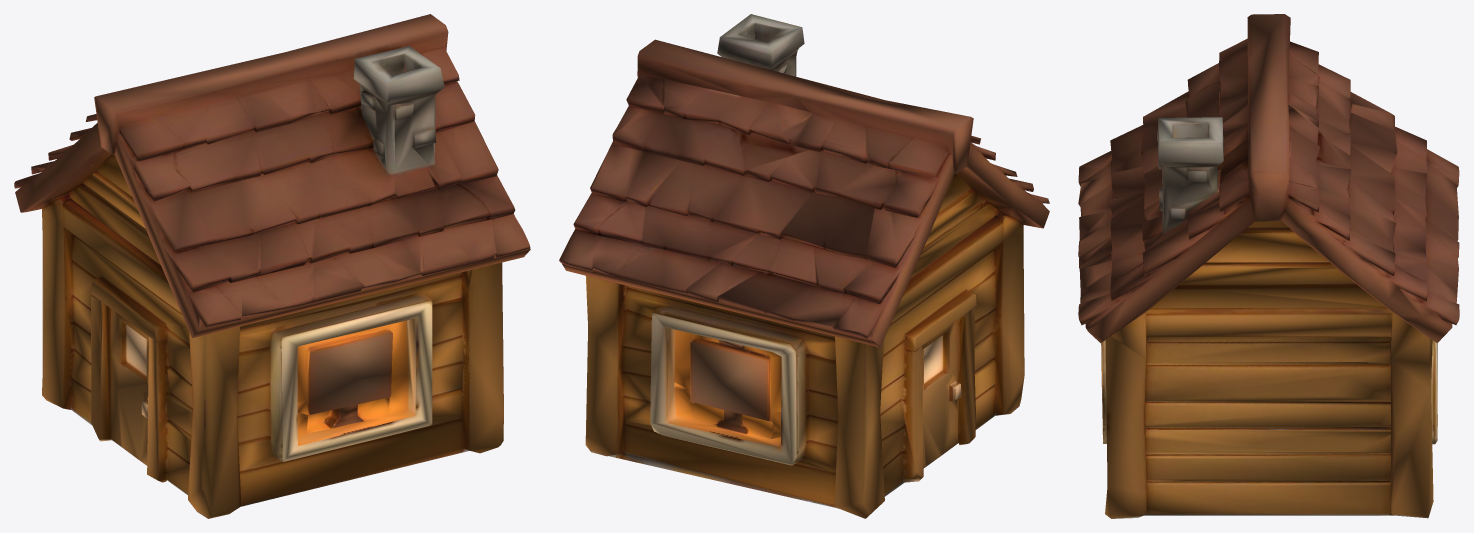
File: cabin.glb
The picture shows the model from 3 angles, left to right: view 1: azimuth 30°, elevation 25°; view 2: azimuth 150°, elevation 25°; view 3: azimuth 270°, elevation 25°; orthographic projection. The views are drawn at different scales.
Visible parts, largest first — view 1: node_0; view 2: node_0; view 3: node_0.
Part boxes in pixels (box(x1,y1,x2,y2)): node_0: box(14, 14, 530, 518); node_0: box(559, 14, 1049, 518); node_0: box(1078, 14, 1459, 518).
Size of the model in its own units: 0.7545 by 0.7915 by 0.755.
1 material, 1 textured.
